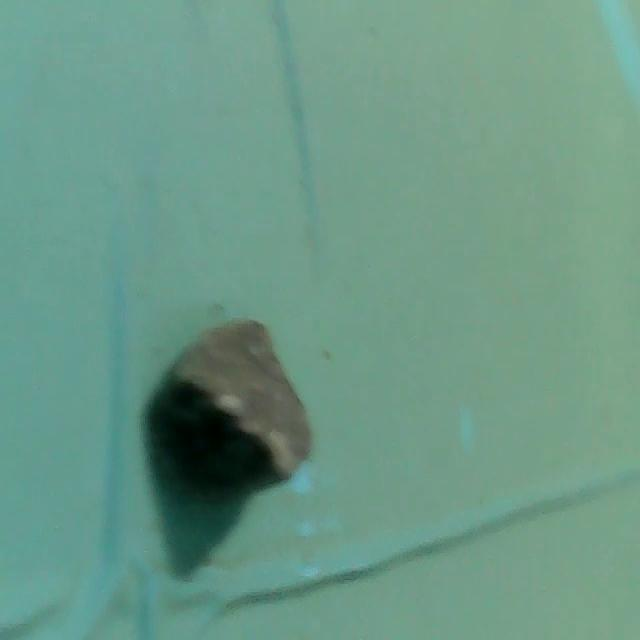rock: (152, 314, 317, 510)
